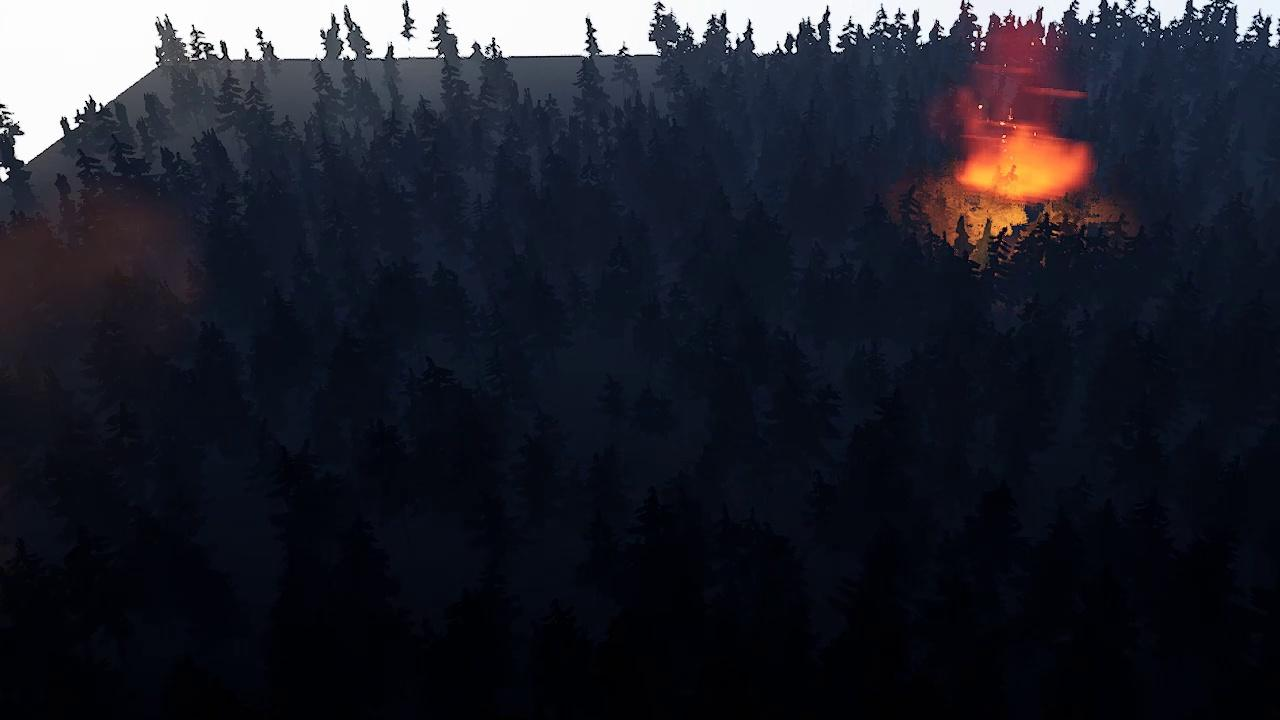fire: (957, 118, 1090, 200)
smoke: (2, 166, 201, 359), (946, 19, 1079, 125)
